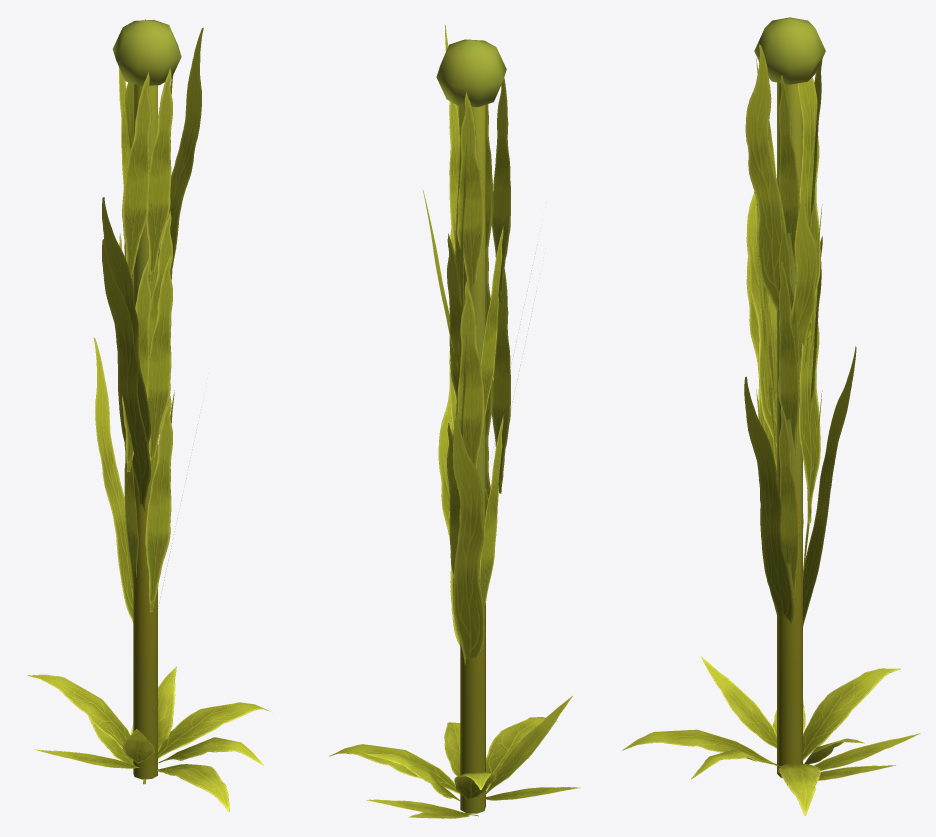
Rendered from plant_05.FBX.
The picture shows the model from 3 angles, left to right: view 1: azimuth 30°, elevation 25°; view 2: azimuth 150°, elevation 25°; view 3: azimuth 270°, elevation 25°; orthographic projection.
Parts seen in each view (by area): view 1: plant_05; view 2: plant_05; view 3: plant_05.
Boxes of the visible parts, x1,y1,x2,y2 form: plant_05: (27, 19, 270, 811); plant_05: (329, 25, 580, 818); plant_05: (622, 17, 920, 815).
Bounding box in the file's own units: 213 × 222 × 623.
